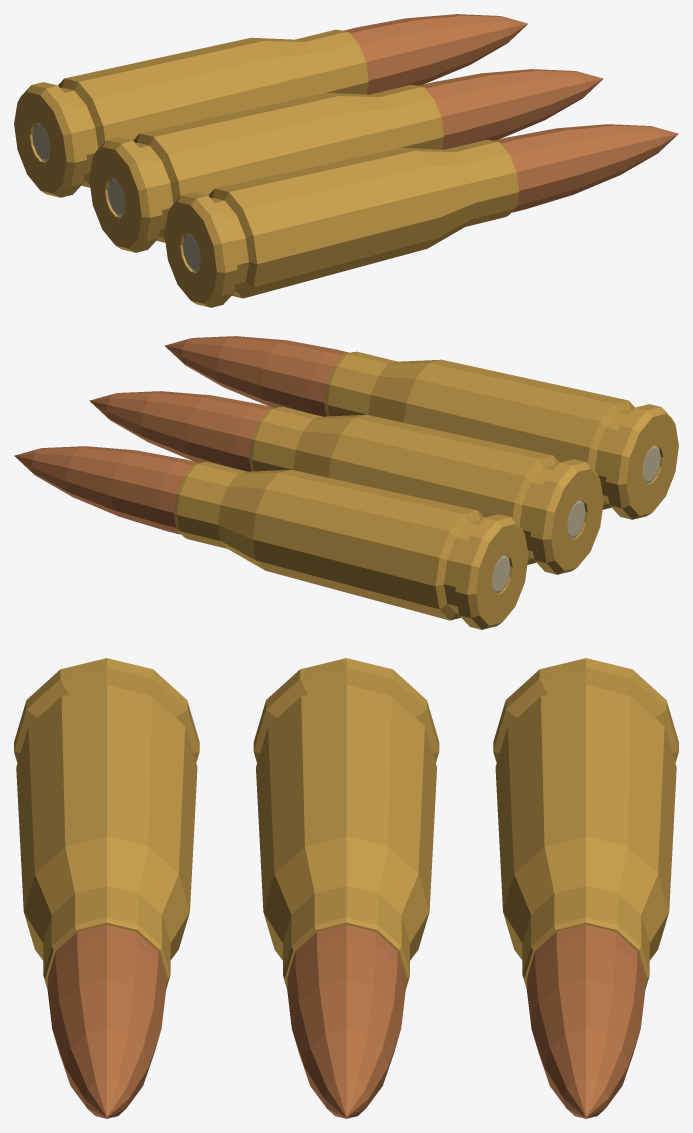
File: bullet_ak_triple.obj
3 views of the same model, one above another, from view 1: azimuth 30°, elevation 25°; view 2: azimuth 150°, elevation 25°; view 3: azimuth 270°, elevation 25° (orthographic). The views are drawn at different scales.
Parts seen in each view (by area): view 1: Round3_Casing, Round1_Casing, Round2_Casing, Round3_Projectile, Round2_Projectile, Round1_Projectile, Round2_Primer, Round3_Primer, Round1_Primer; view 2: Round1_Casing, Round3_Casing, Round2_Casing, Round1_Projectile, Round2_Projectile, Round3_Projectile, Round1_Primer, Round2_Primer, Round3_Primer; view 3: Round1_Casing, Round3_Casing, Round2_Casing, Round2_Projectile, Round1_Projectile, Round3_Projectile.
Boxes of the visible parts, x1,y1,x2,y2 form: Round3_Casing: (164,139,518,307); Round1_Casing: (14,29,368,197); Round2_Casing: (89,84,443,252); Round3_Projectile: (493,124,678,212); Round2_Projectile: (418,69,603,149); Round1_Projectile: (343,14,527,94); Round2_Primer: (107,178,125,216); Round3_Primer: (182,233,200,271); Round1_Primer: (32,123,50,161); Round1_Casing: (174,461,528,629); Round3_Casing: (324,351,678,519); Round2_Casing: (249,406,603,574); Round1_Projectile: (14,446,199,534); Round2_Projectile: (89,391,274,471); Round3_Projectile: (165,336,349,416); Round1_Primer: (492,555,510,593); Round2_Primer: (567,500,585,538); Round3_Primer: (642,445,660,483); Round1_Casing: (493,658,678,989); Round3_Casing: (14,658,199,989); Round2_Casing: (253,658,439,989); Round2_Projectile: (287,924,405,1118); Round1_Projectile: (527,924,645,1118); Round3_Projectile: (47,924,165,1118).
Size of the model in its own units: 0.06 by 0.0124 by 0.0444.
